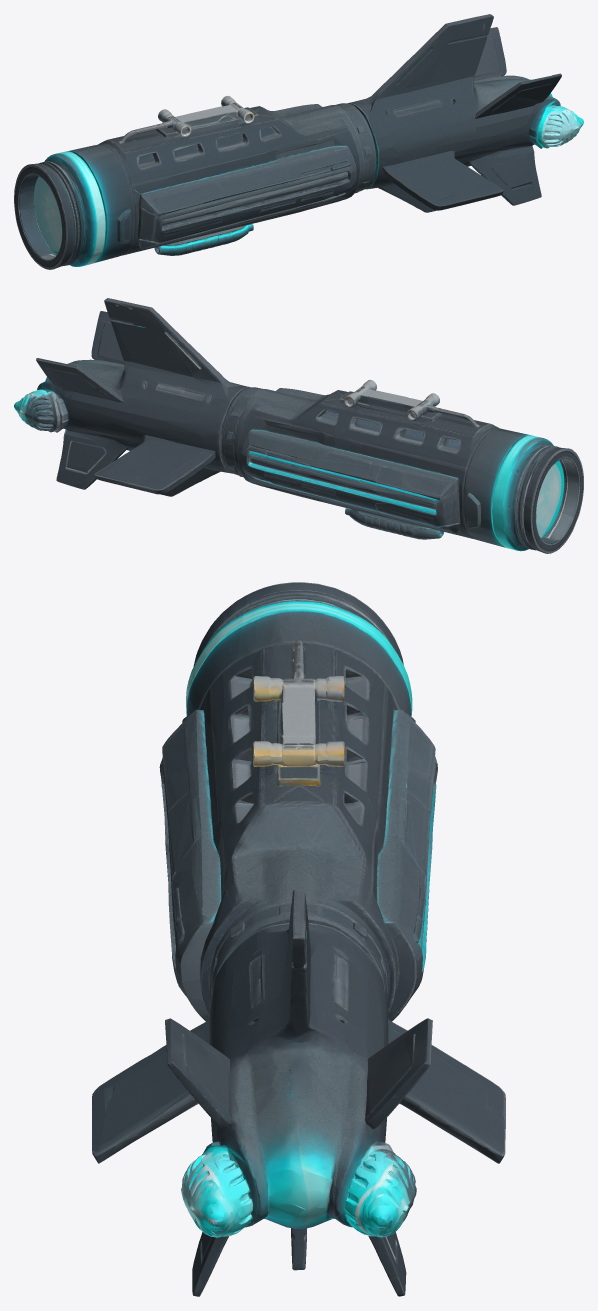
File: small_cyan_missile.glb
3 views of the same model, one above another, from view 1: azimuth 30°, elevation 25°; view 2: azimuth 150°, elevation 25°; view 3: azimuth 270°, elevation 25° (orthographic). The views are drawn at different scales.
Size of the model in its own units: 1.9 by 0.6346 by 0.6525.
1 material, 1 textured.
